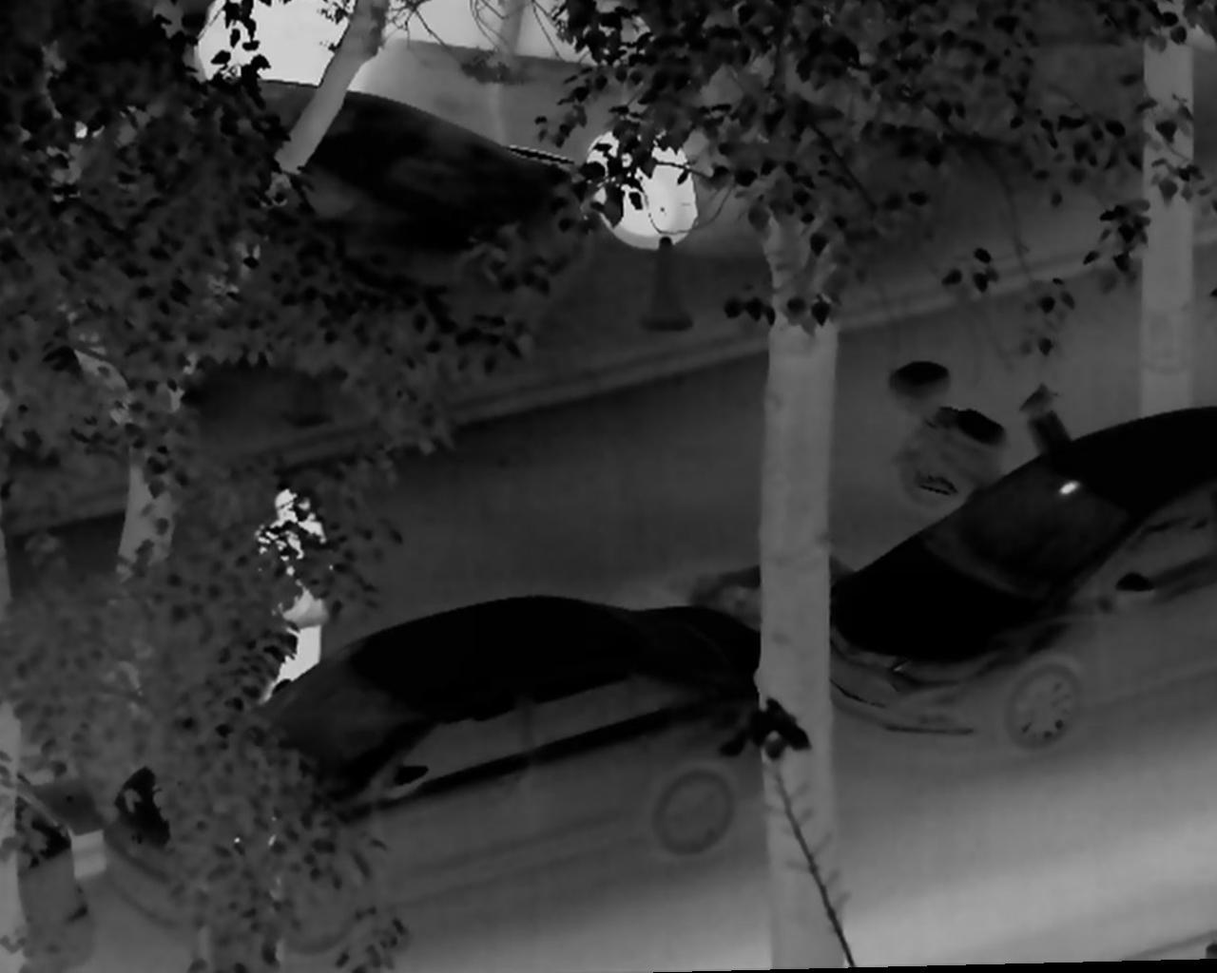person: (246, 486, 334, 706)
